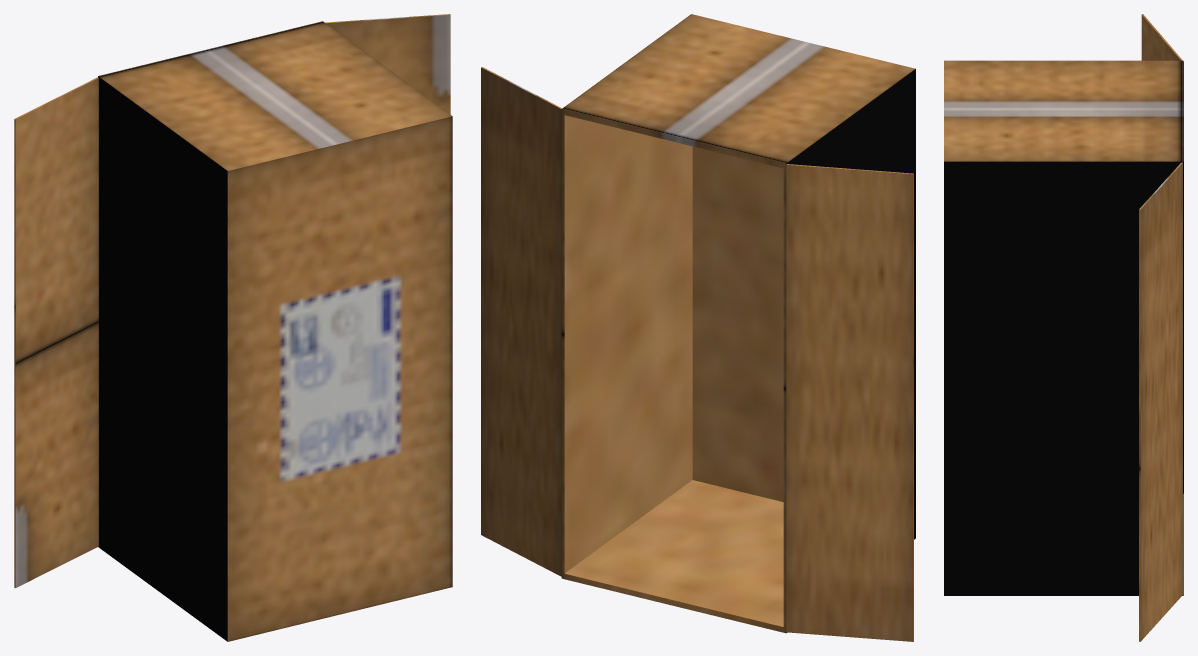
Rendered from SM_Плоскость_001.fbx.
3 views of the same model, side by side, from view 1: azimuth 30°, elevation 25°; view 2: azimuth 150°, elevation 25°; view 3: azimuth 270°, elevation 25° (orthographic). The views are drawn at different scales.
Parts seen in each view (by area): view 1: Плоскость.001; view 2: Плоскость.001; view 3: Плоскость.001.
Part boxes in pixels (bbox=[...]): Плоскость.001: bbox=[14, 14, 452, 641]; Плоскость.001: bbox=[481, 14, 915, 641]; Плоскость.001: bbox=[944, 14, 1183, 641].
Bounding box in the file's own units: 385 × 398 × 199.
